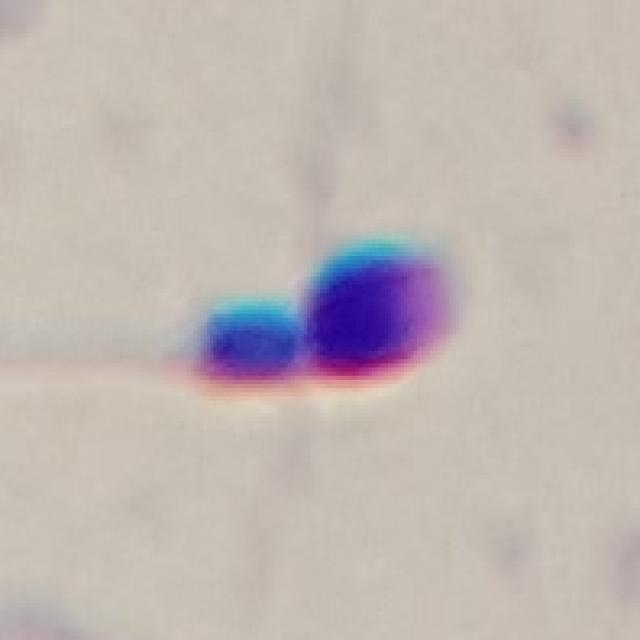abnormal sperm: (62, 232, 477, 430)
